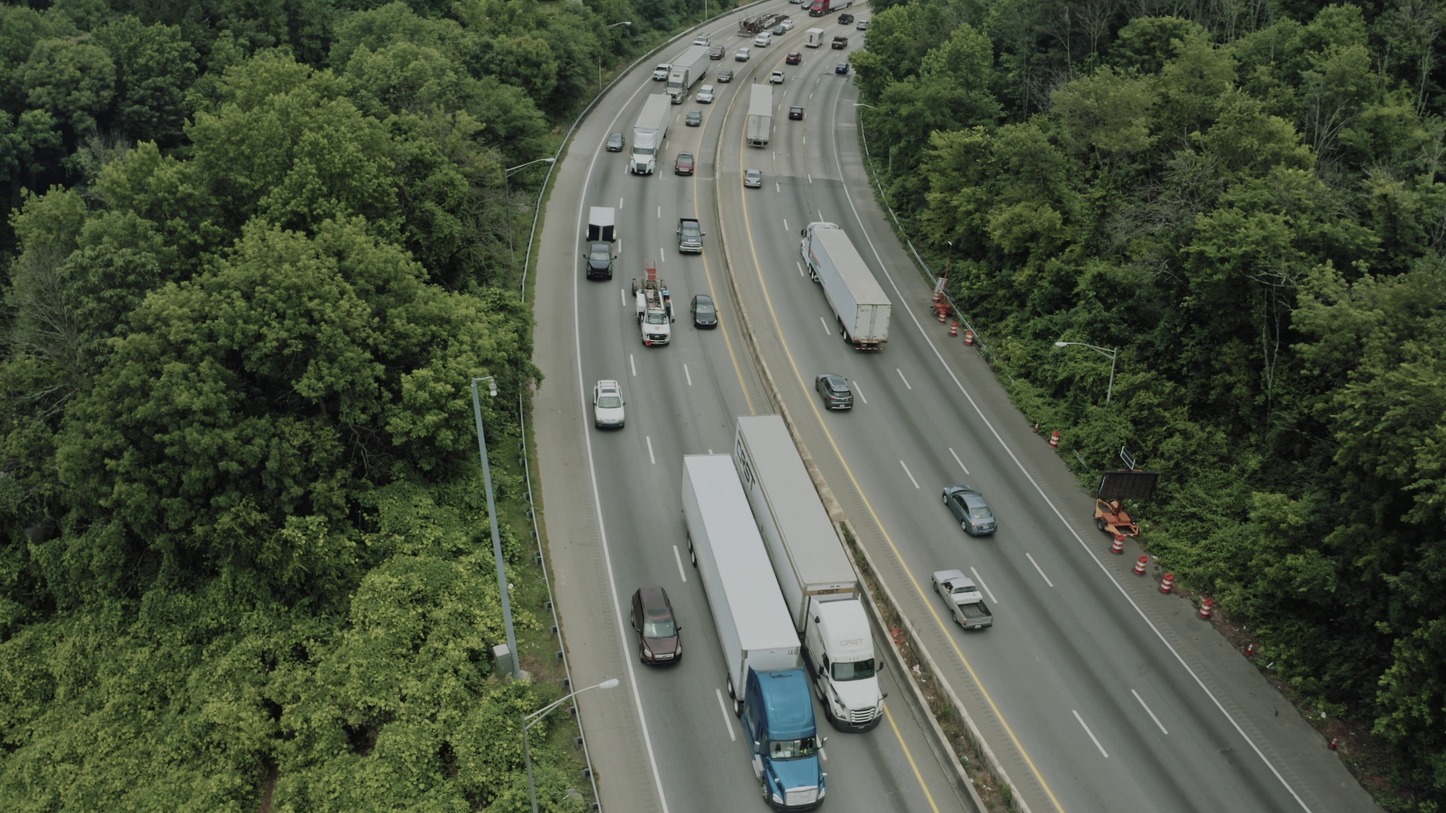Vehicle: (800, 590, 906, 737), (745, 665, 826, 809), (630, 585, 683, 666), (931, 569, 994, 626), (628, 271, 675, 347), (942, 484, 998, 537), (795, 219, 846, 277), (593, 380, 626, 429), (964, 575, 994, 626), (815, 373, 854, 411), (629, 131, 660, 175), (584, 240, 616, 281), (663, 65, 696, 104), (676, 219, 705, 254), (690, 294, 718, 330), (737, 15, 764, 38), (675, 151, 695, 176), (803, 27, 826, 48), (809, 0, 832, 17), (696, 84, 715, 104), (743, 169, 762, 188), (606, 133, 625, 152), (653, 63, 672, 81), (685, 109, 703, 127), (754, 32, 772, 48), (831, 35, 848, 50), (735, 47, 751, 62), (717, 69, 734, 83), (710, 45, 725, 60), (786, 51, 802, 65), (770, 70, 786, 84), (789, 106, 804, 120), (1205, 597, 1214, 619), (838, 13, 854, 25), (835, 63, 850, 75), (1205, 597, 1213, 619), (780, 19, 795, 30), (772, 25, 786, 36), (856, 20, 869, 31), (1198, 599, 1205, 619), (789, 0, 803, 4)
